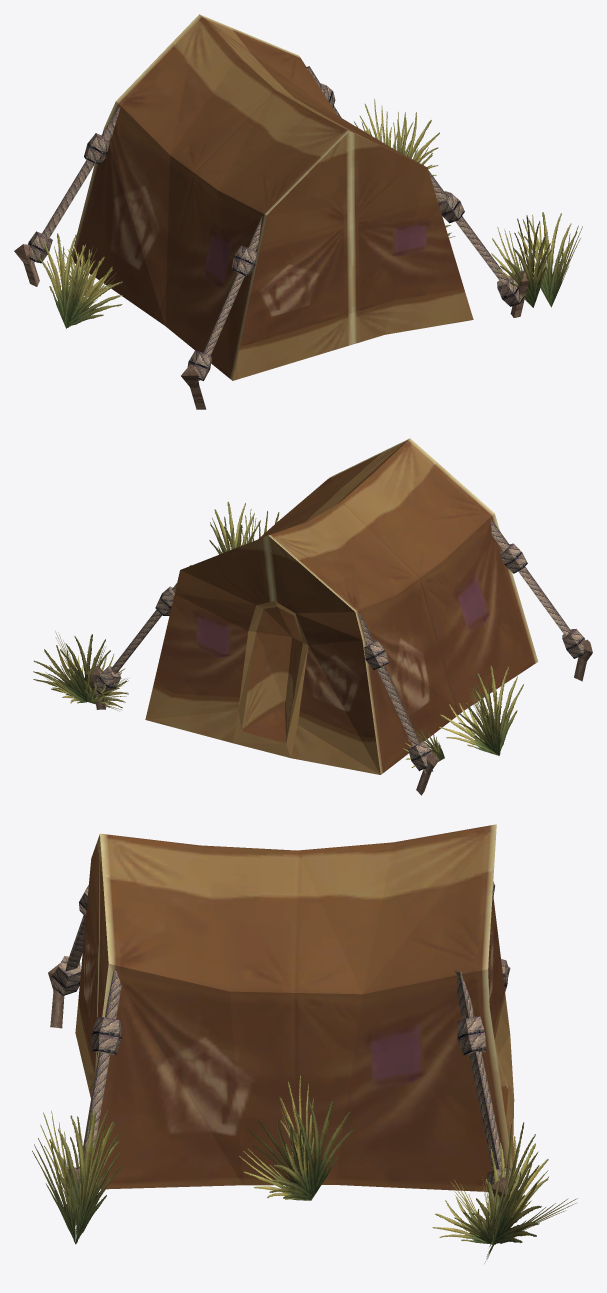
Rendered from C1SMTUNDRATENT2H.obj.
3 views of the same model, one above another, from view 1: azimuth 30°, elevation 25°; view 2: azimuth 150°, elevation 25°; view 3: azimuth 270°, elevation 25° (orthographic). The views are drawn at different scales.
Visible parts, largest first — view 1: Node 2, Node 0, Node 4, Node 5, Node 3; view 2: Node 2, Node 0, Node 4, Node 3, Node 6; view 3: Node 2, Node 0, Node 6, Node 5, Node 4.
Part boxes in pixels (x1,y1,x2,y2): Node 2: [57, 14, 473, 380]; Node 0: [38, 99, 582, 328]; Node 4: [181, 216, 262, 409]; Node 5: [428, 170, 533, 317]; Node 3: [14, 106, 120, 286]; Node 2: [85, 438, 538, 774]; Node 0: [33, 501, 523, 755]; Node 4: [491, 519, 592, 681]; Node 3: [359, 611, 439, 795]; Node 6: [95, 565, 191, 696]; Node 2: [75, 824, 518, 1244]; Node 0: [32, 1107, 577, 1263]; Node 6: [454, 971, 504, 1170]; Node 5: [66, 970, 121, 1225]; Node 4: [48, 885, 88, 1028].
Size of the model in its own units: 8.86 by 4.31 by 7.31.
Materials: 12 (12 with a texture image).
